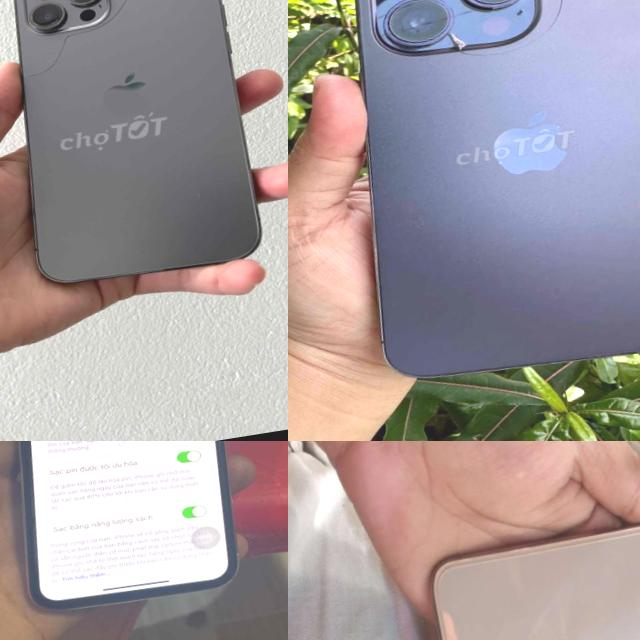gen_12_13: (0, 0, 268, 293)
gen_14: (310, 0, 640, 403)
gen_x_xs: (0, 441, 251, 624), (433, 525, 640, 640)
